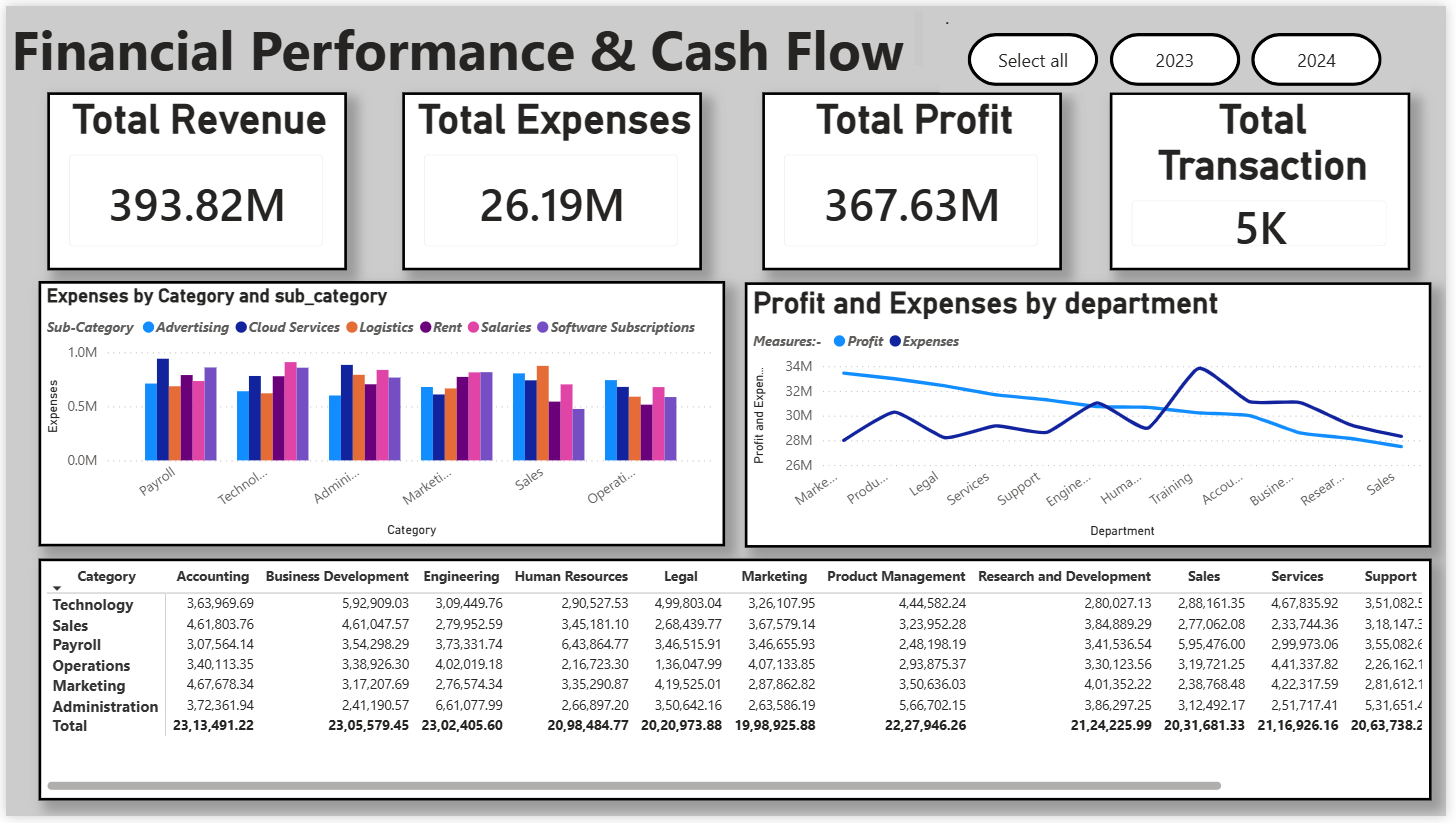

This screenshot's page, from the dashboard's own definition file:
{"tool":"powerbi","page":{"name":"Cost Analysis","canvas":[1280,720],"ordinal":2},"visuals":[{"type":"cardVisual","title":"Total Revenue ","fields":{"Data":["finance_cleaned.Revenue"]},"box":[37.2,76.7,266.3,158.1],"z":0},{"type":"cardVisual","title":"Total Transaction ","fields":{"Data":["finance_cleaned.Total_Transaction"]},"box":[981.4,76.7,267.4,158.1],"z":1000},{"type":"cardVisual","title":"Total Profit","fields":{"Data":["finance_cleaned.Profit"]},"box":[672.1,76.7,266.3,158.1],"z":2000},{"type":"cardVisual","title":"Total Expenses","fields":{"Data":["finance_cleaned.Expenses"]},"box":[352.3,76.7,266.3,158.1],"z":3000},{"type":"textbox","box":[0,0,820.2,65.3],"z":4000},{"type":"advancedSlicerVisual","title":".","fields":{"Values":["Date.Year"]},"box":[830.2,0,418.6,76.7],"z":5000},{"type":"lineChart","fields":{"Y":["finance_cleaned.Profit"],"Category":["finance_cleaned.department"],"Y2":["finance_cleaned.Expenses"]},"box":[657,245.3,610.5,236],"z":6000},{"type":"clusteredColumnChart","fields":{"Y":["finance_cleaned.Expenses"],"Category":["finance_cleaned.category"],"Series":["finance_cleaned.sub_category"]},"box":[29.1,244.2,610.5,236],"z":7000},{"type":"pivotTable","fields":{"Rows":["finance_cleaned.category"],"Columns":["finance_cleaned.department"],"Values":["finance_cleaned.Expenses"]},"box":[29.1,490.7,1238.4,215.1],"z":8000}]}

Visuals, with their boxes in screenshot pixels (x1, y1, x2, y2), scaled from the page's 1280x720 canvas onto the 1456x823 screenshot:
"Total Revenue " cardVisual: [42,88,345,268]
"Total Transaction " cardVisual: [1116,88,1421,268]
"Total Profit" cardVisual: [765,88,1067,268]
"Total Expenses" cardVisual: [401,88,704,268]
textbox: [0,0,933,75]
"." advancedSlicerVisual: [944,0,1421,88]
lineChart - finance_cleaned.Profit x finance_cleaned.department: [747,280,1442,550]
clusteredColumnChart - finance_cleaned.Expenses x finance_cleaned.category: [33,279,728,549]
pivotTable - finance_cleaned.category x finance_cleaned.department: [33,561,1442,807]
